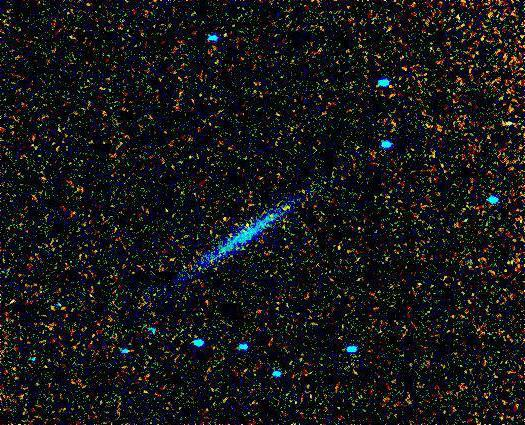star: (270, 193, 300, 223)
